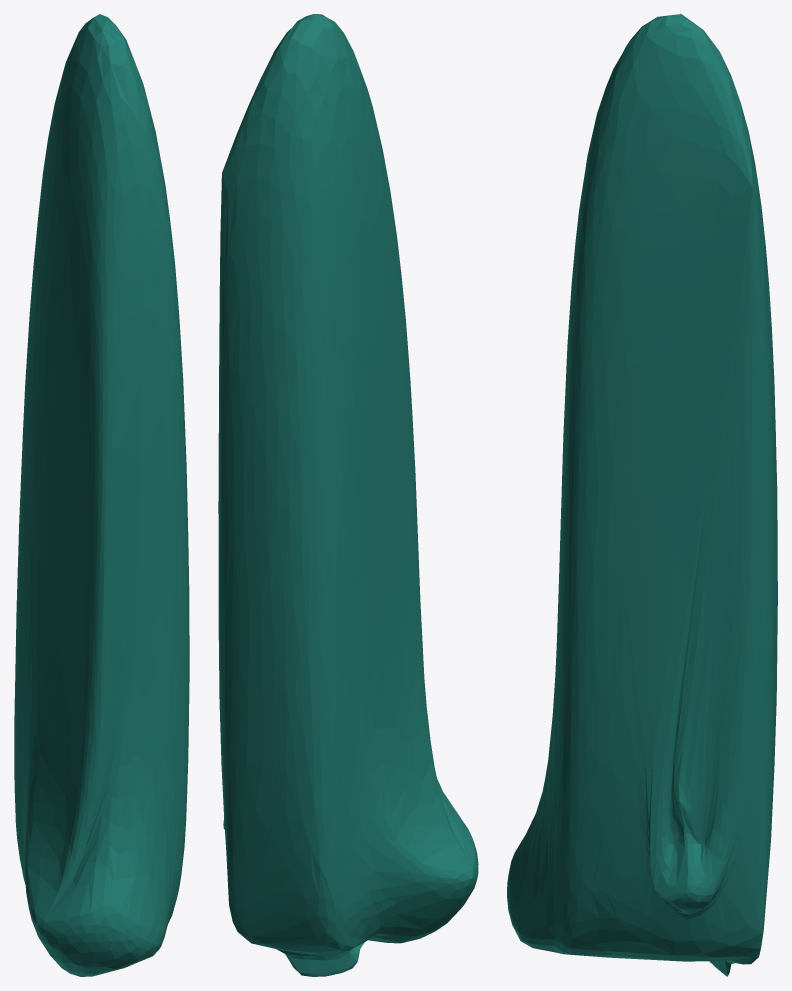
3 renders of one model, left to right at view 1: azimuth 30°, elevation 25°; view 2: azimuth 150°, elevation 25°; view 3: azimuth 270°, elevation 25°, orthographic. The views are drawn at different scales.
Parts seen in each view (by area): view 1: 246_Cube.1010; view 2: 246_Cube.1010; view 3: 246_Cube.1010.
Part boxes in pixels (left/top/right/bottom): 246_Cube.1010: left=14, top=14, right=189, bottom=976; 246_Cube.1010: left=218, top=14, right=478, bottom=976; 246_Cube.1010: left=507, top=14, right=777, bottom=976.
Size of the model in its own units: 2.48 by 11.53 by 2.92.
